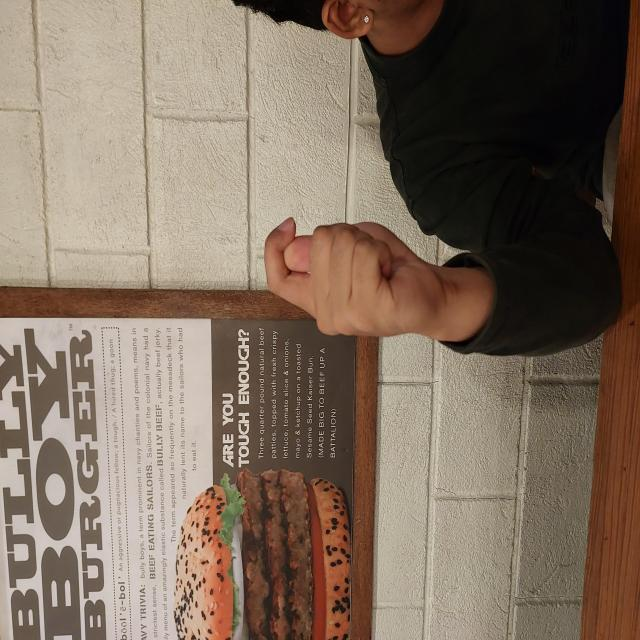T: (302, 264, 426, 446)
